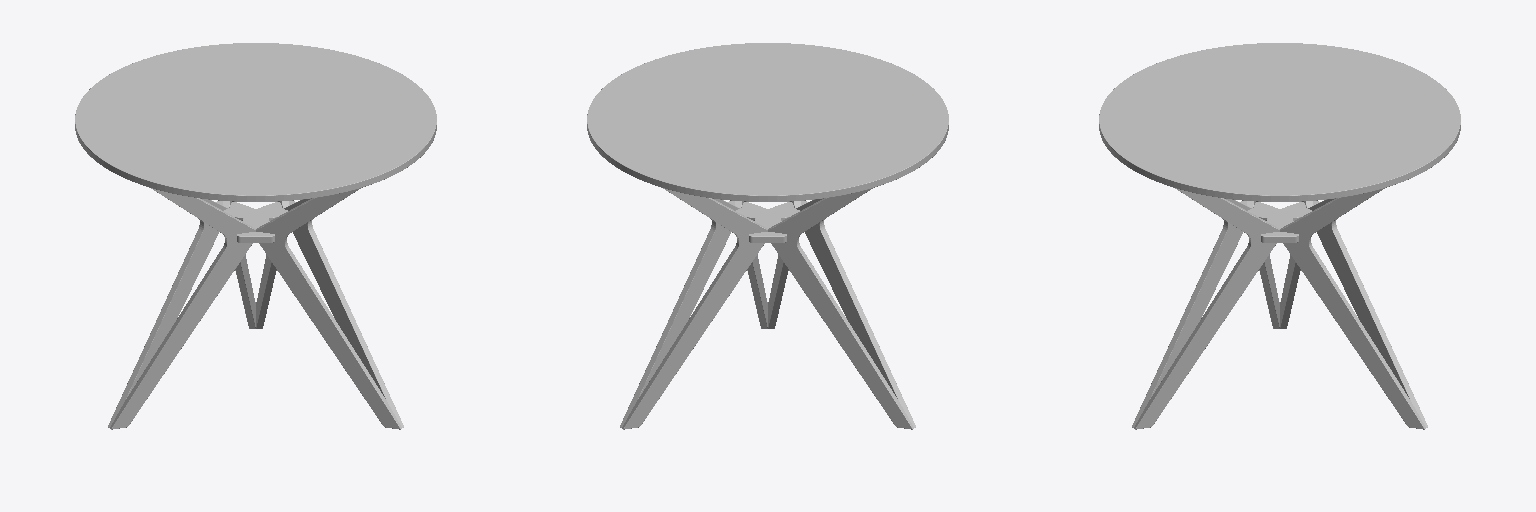
File: table.obj
The picture shows the model from 3 angles: view 1: azimuth 30°, elevation 25°; view 2: azimuth 150°, elevation 25°; view 3: azimuth 270°, elevation 25°; orthographic projection.
Parts seen in each view (by area): view 1: table; view 2: table; view 3: table.
Part boxes in pixels (bbox=[...]): table: bbox=[75, 43, 436, 429]; table: bbox=[587, 43, 948, 429]; table: bbox=[1099, 43, 1460, 429].
Bounding box in the file's own units: 1.4 × 1.17 × 1.4.